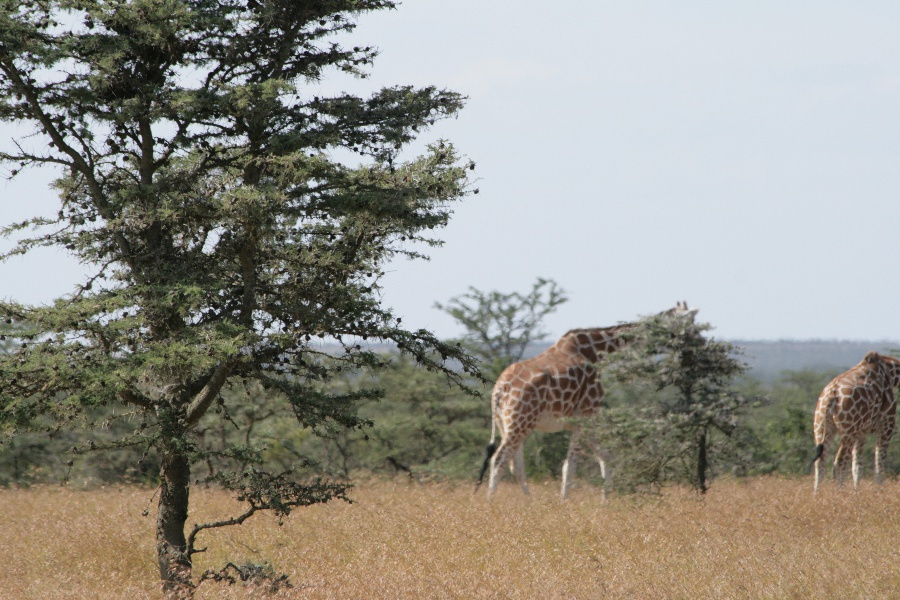giraffe: (488, 307, 691, 509), (806, 341, 898, 496)
